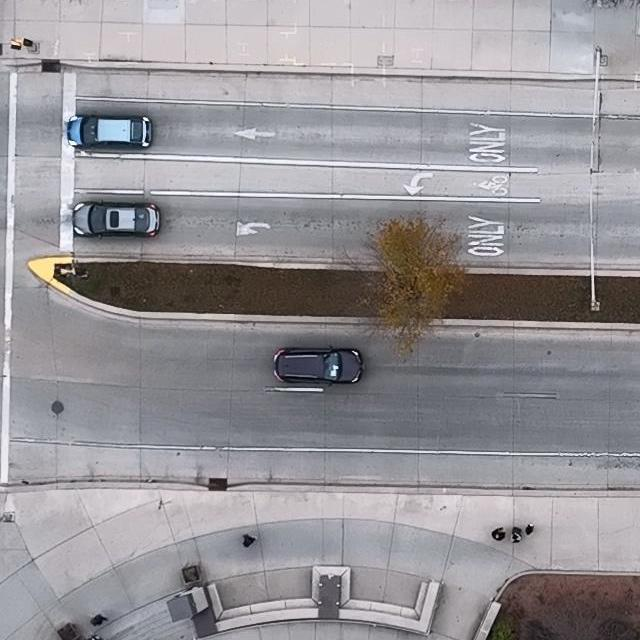car: (273, 346, 363, 386), (72, 200, 161, 236), (68, 114, 153, 148)
